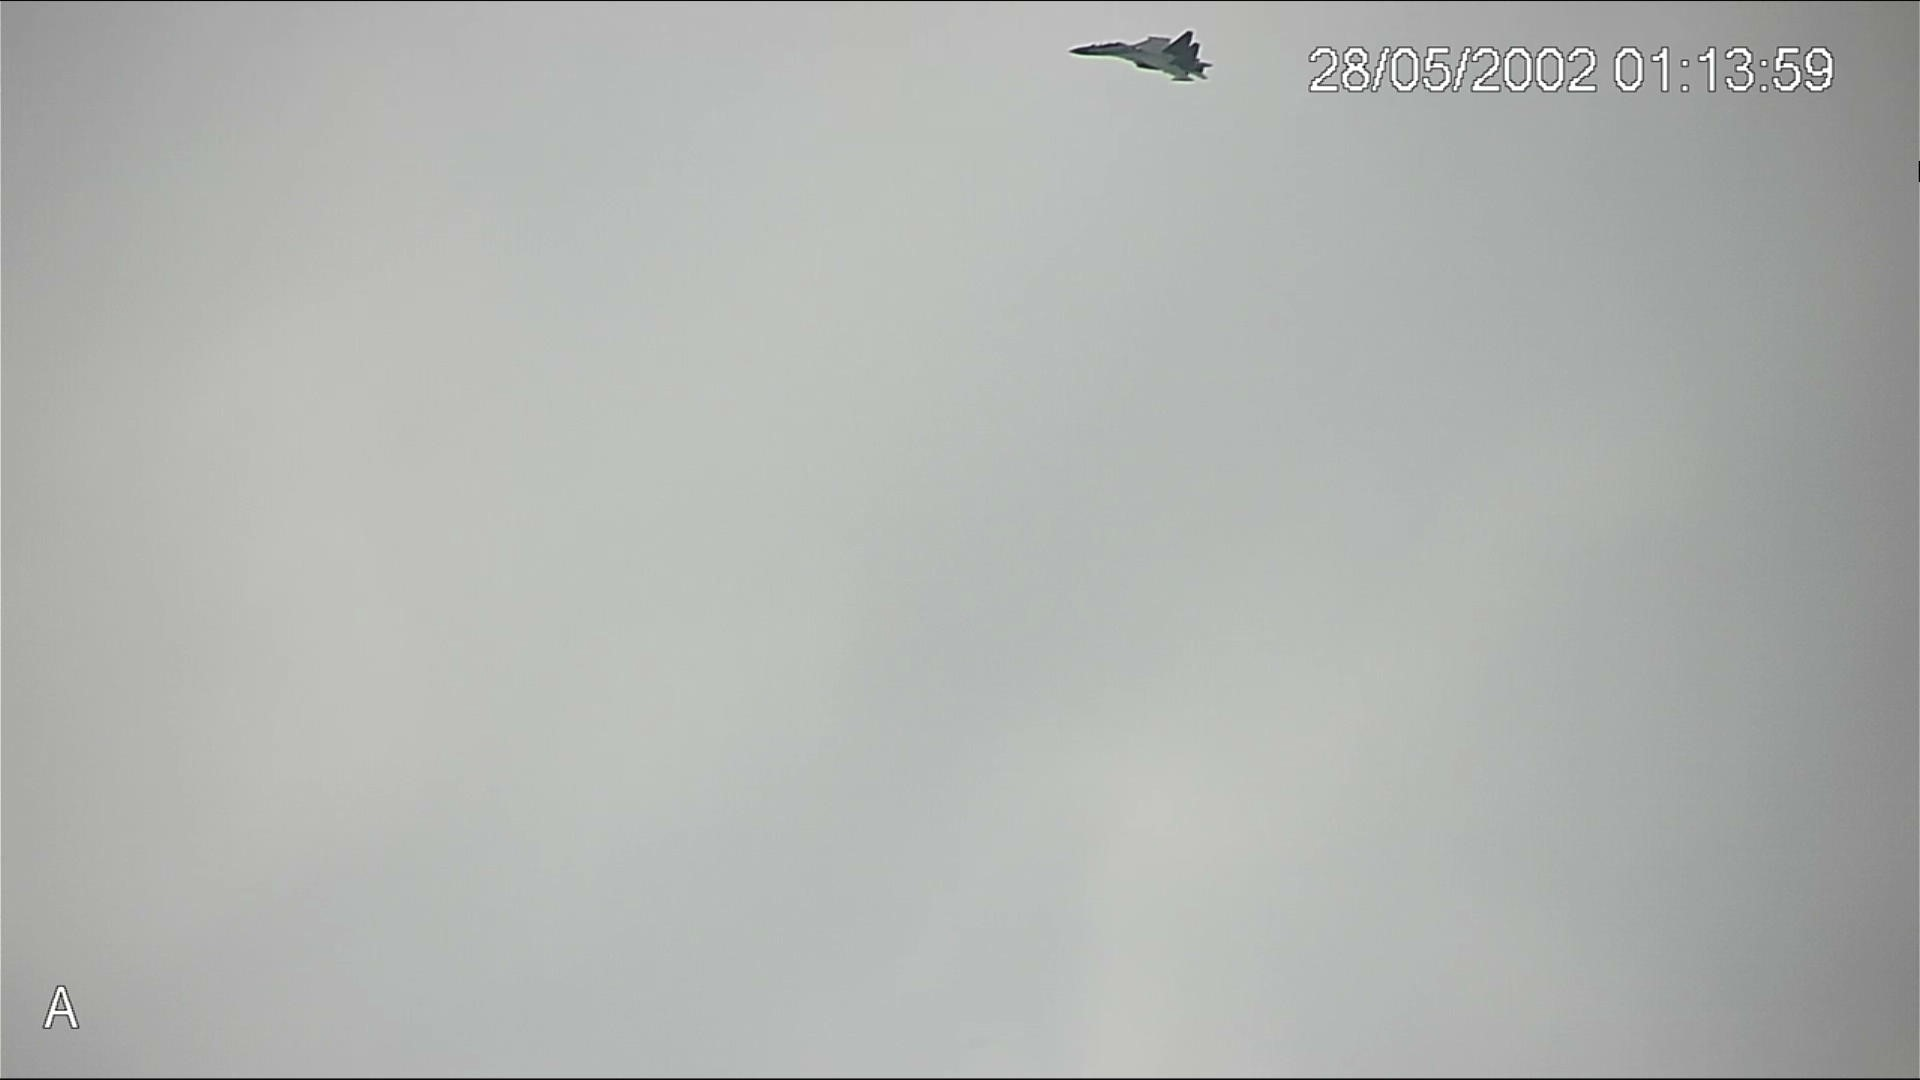SU_30: (1068, 24, 1215, 91)
